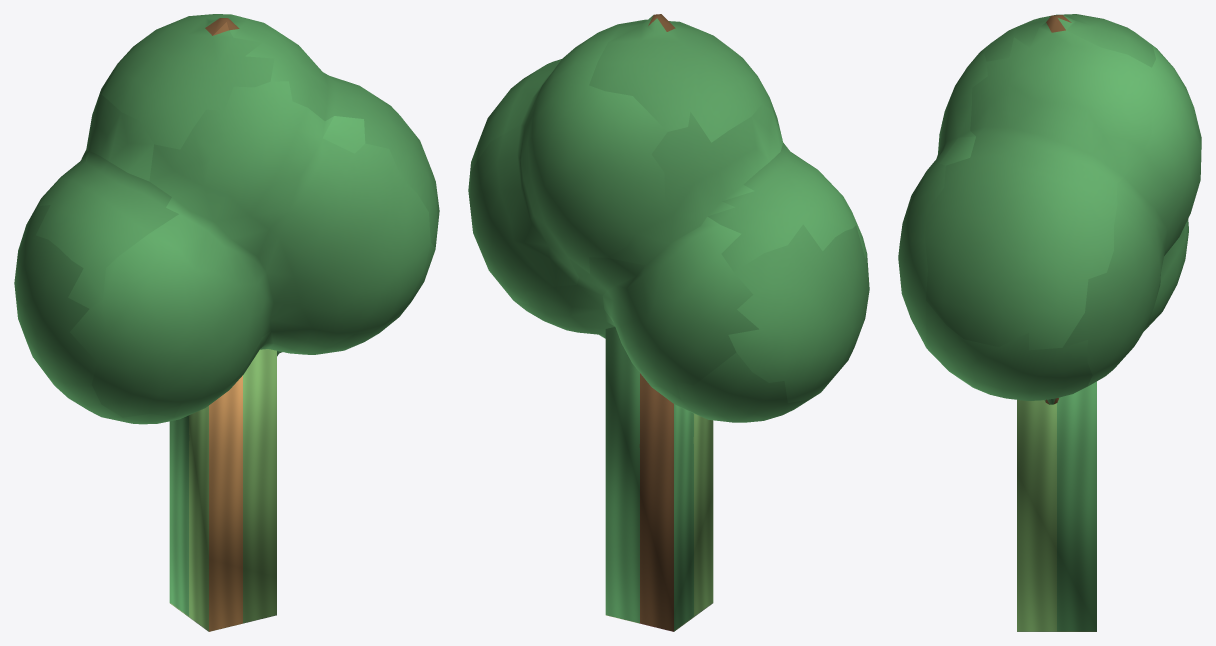
File: tree_round_c.glb
3 renders of one model, left to right at view 1: azimuth 30°, elevation 25°; view 2: azimuth 150°, elevation 25°; view 3: azimuth 270°, elevation 25°, orthographic.
Parts seen in each view (by area): view 1: lod0, col; view 2: lod0, col; view 3: lod0, col.
Part boxes in pixels (left/top/right/bottom): lod0: left=14, top=14, right=439, bottom=424; col: left=169, top=349, right=276, bottom=631; lod0: left=468, top=14, right=869, bottom=422; col: left=605, top=327, right=713, bottom=631; lod0: left=898, top=14, right=1201, bottom=404; col: left=1017, top=381, right=1096, bottom=631.
Size of what is drawn, in the model's own units: 3.32 by 4.97 by 2.28.
Materials: 2 (2 with a texture image).
